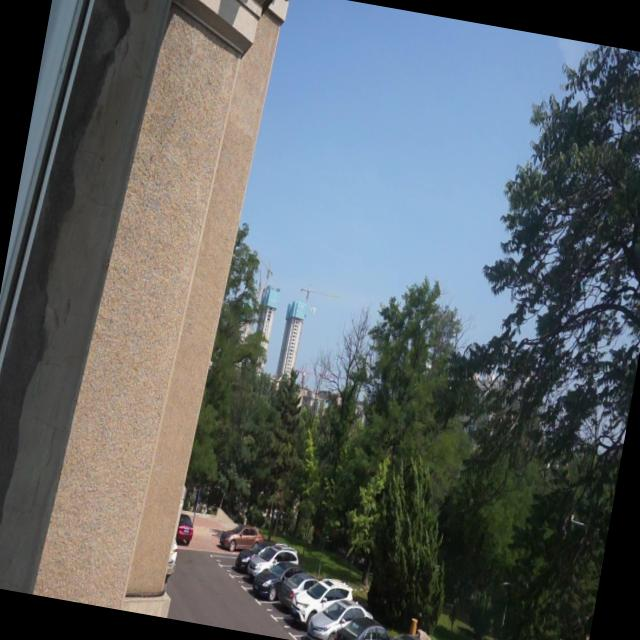drone: (308, 302, 319, 314)
